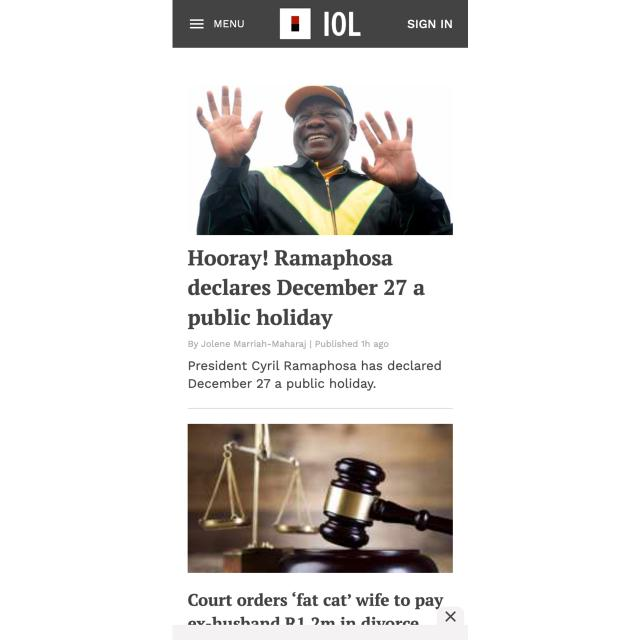logo: (276, 6, 363, 40)
navigation: (187, 14, 251, 36)
